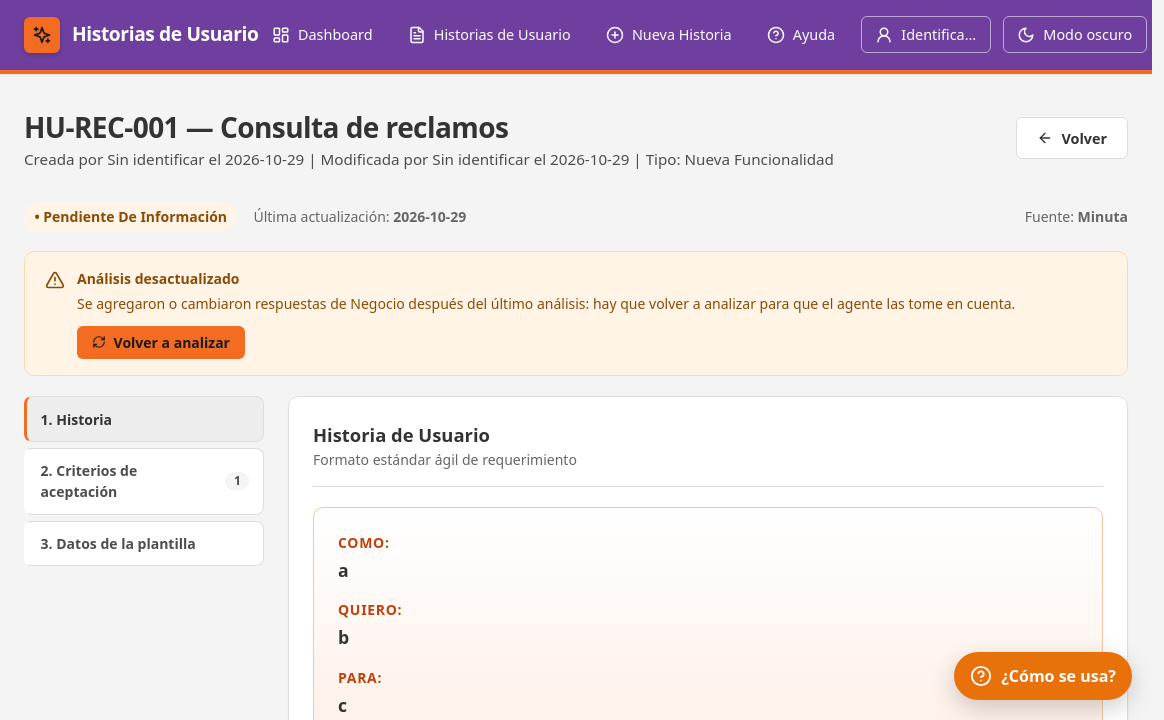
Test: reanálisis con respuestas ya registradas › envía las respuestas guardadas junto con el requerimiento y las conserva en la lista
Click the button "Volver a analizar".
click(161, 342)  # box [77, 326, 245, 359]
(page scrolled)
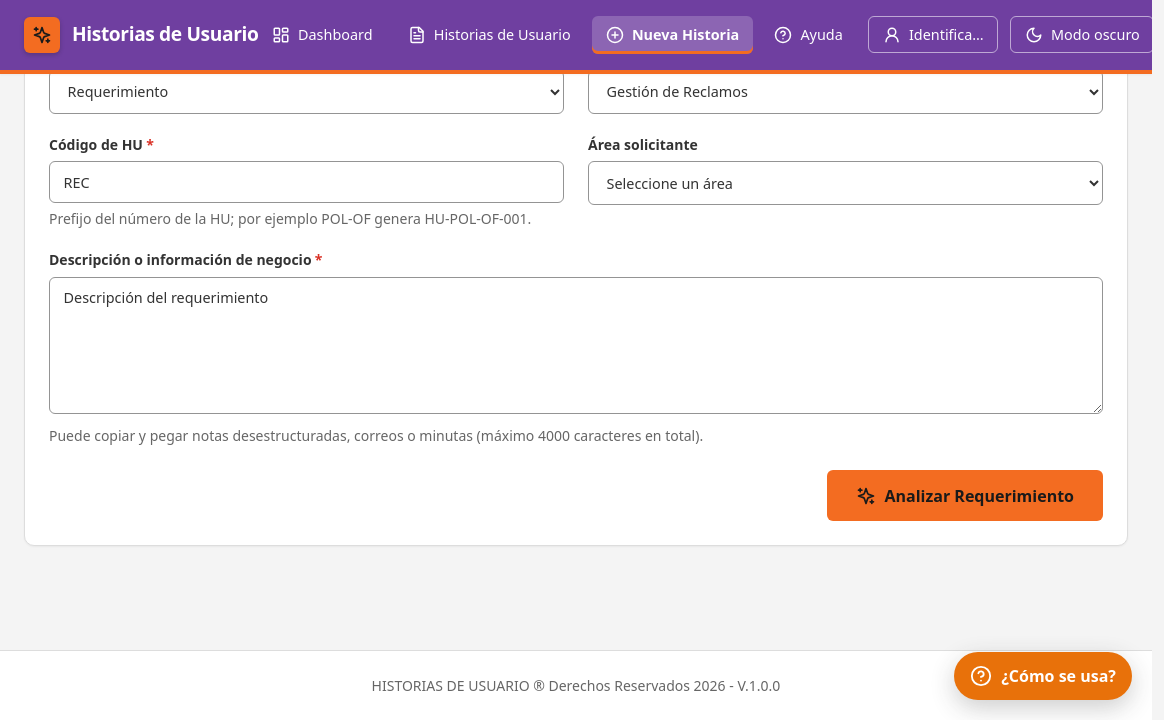
Click the button "Analizar Requerimiento".
click(965, 496)  # box [828, 470, 1103, 522]
(page scrolled)
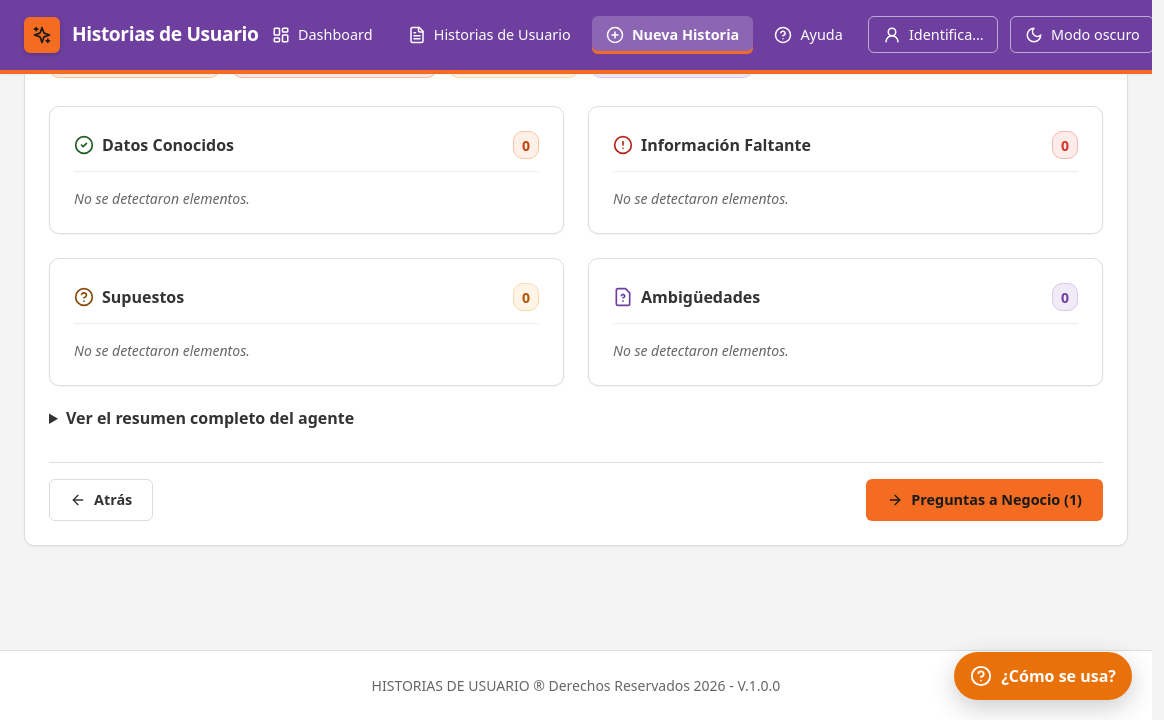
Click the button "Preguntas a Negocio (1)".
click(985, 500)  # box [866, 479, 1103, 521]
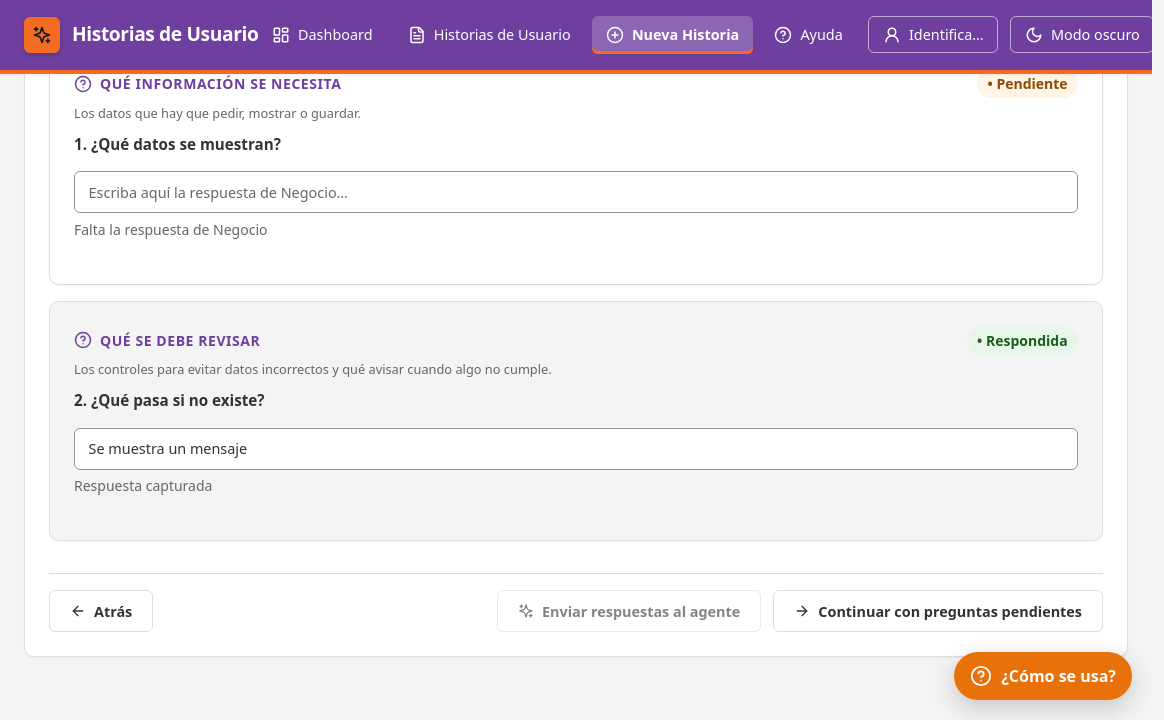
expect the text "1. ¿Qué datos se muestran?" is shown: met, box [74, 134, 281, 154]
expect the text "2. ¿Qué pasa si no existe?" is shown: met, box [74, 390, 265, 410]
expect the field showing "Se muestra un mensaje" is shown: met, box [74, 428, 1078, 470]
